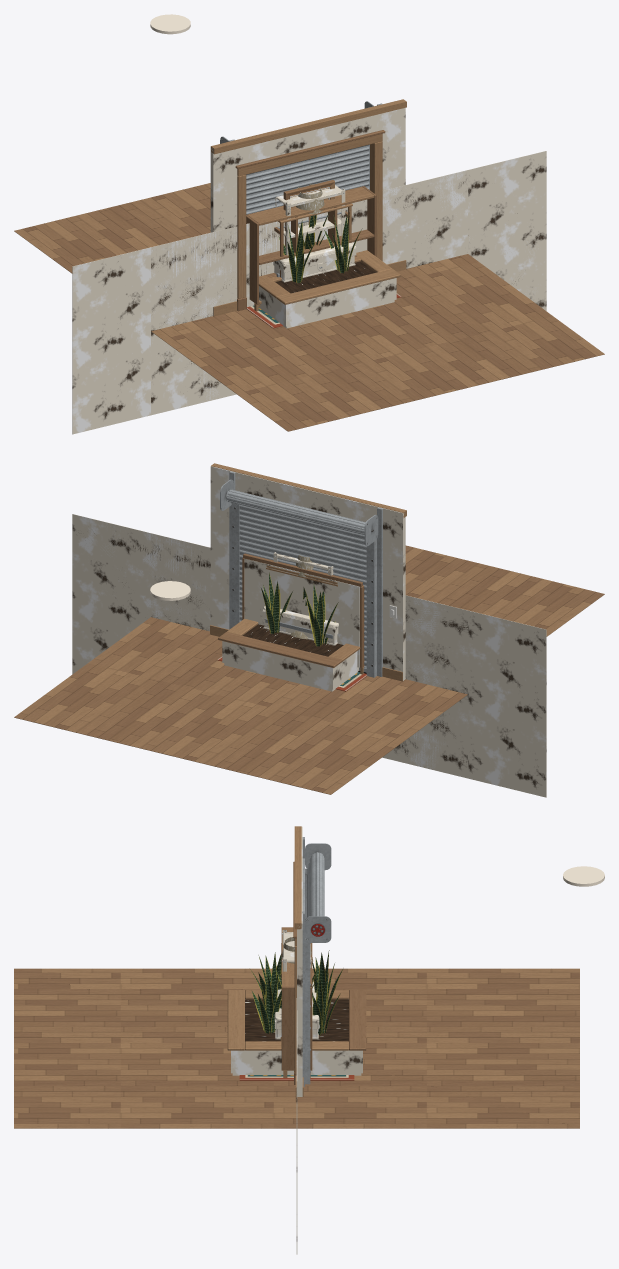
File: Home.fbx
3 views of the same model, one above another, from view 1: azimuth 30°, elevation 25°; view 2: azimuth 150°, elevation 25°; view 3: azimuth 270°, elevation 25° (orthographic). The views are drawn at different scales.
Parts seen in each view (by area): view 1: PanelFloor, PanelLeft, PanelBack, PanelRight, PanelFront, Facade, CurtainClosed, Shelf, Planter, PlanterPlants, Casing, PlanterSeat (+6 smaller); view 2: PanelFloor, PanelRight, PanelLeft, FacadeBack, PanelBack, CurtainClosed, ShelfBack, Frame, Planter, PlanterPlants, PlanterSeat, Shelf (+5 smaller); view 3: PanelFloor, PlanterPlants, PlanterSeat, Planter, Shelf, Frame, Hardware, CurtainClosed, Casing, Facade, Lamp, Rug.
Part boxes in pixels (x1,y1,x2,y2): PanelFloor: (14,183,604,431); PanelLeft: (72,151,545,434); PanelBack: (151,170,467,319); PanelRight: (79,151,546,395); PanelFront: (151,190,386,415); Facade: (211,108,405,232); CurtainClosed: (246,145,369,214); Shelf: (246,186,376,311); Planter: (258,278,396,328); PlanterPlants: (275,212,375,293); Casing: (211,99,406,316); PlanterSeat: (258,250,400,304); PanelFloor: (14,545,604,794); PanelRight: (74,516,546,797); PanelLeft: (72,514,546,797); FacadeBack: (210,466,403,680); PanelBack: (152,533,467,778); CurtainClosed: (226,489,366,667); ShelfBack: (244,558,359,667); Frame: (229,471,382,677); Planter: (222,641,358,691); PlanterPlants: (243,572,343,656); PlanterSeat: (218,618,360,667); Shelf: (242,553,364,674); PanelFloor: (14,968,579,1128); PlanterPlants: (245,950,348,1041); PlanterSeat: (227,990,366,1050); Planter: (231,1050,362,1075); Shelf: (281,927,312,1077); Frame: (302,837,310,1086); Hardware: (305,843,331,942); CurtainClosed: (307,852,324,917); Casing: (294,826,303,1096); Facade: (297,926,301,1096); Lamp: (563,866,604,886); Rug: (239,1075,354,1080).
Bounding box in the file's own units: 29.55 × 15.02 × 30.89.
38 materials, 16 textured.
